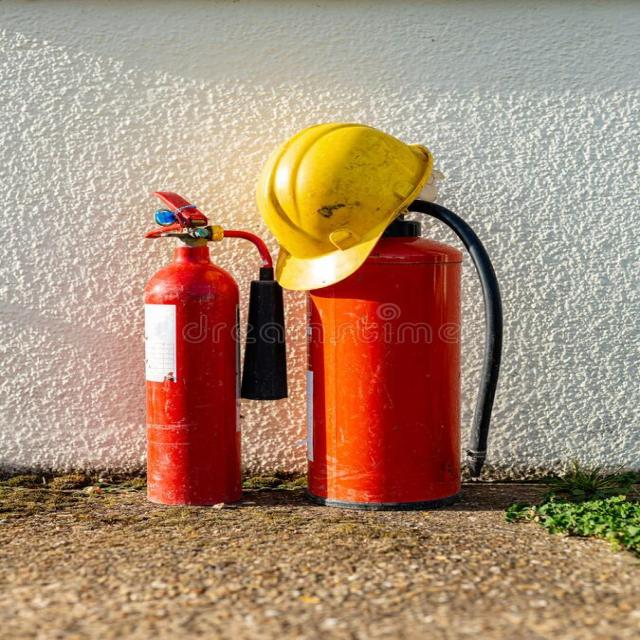fire_extinguisher: (285, 170, 518, 515), (125, 189, 297, 513)
